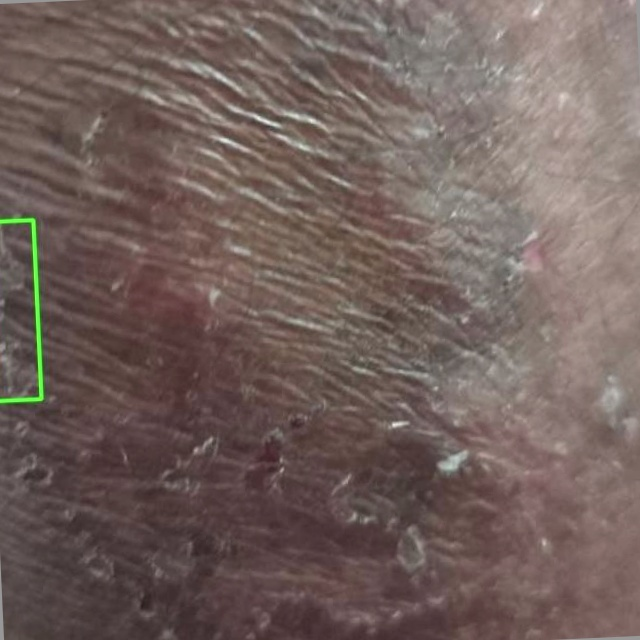Tinea Corporis: (0, 219, 41, 400)
